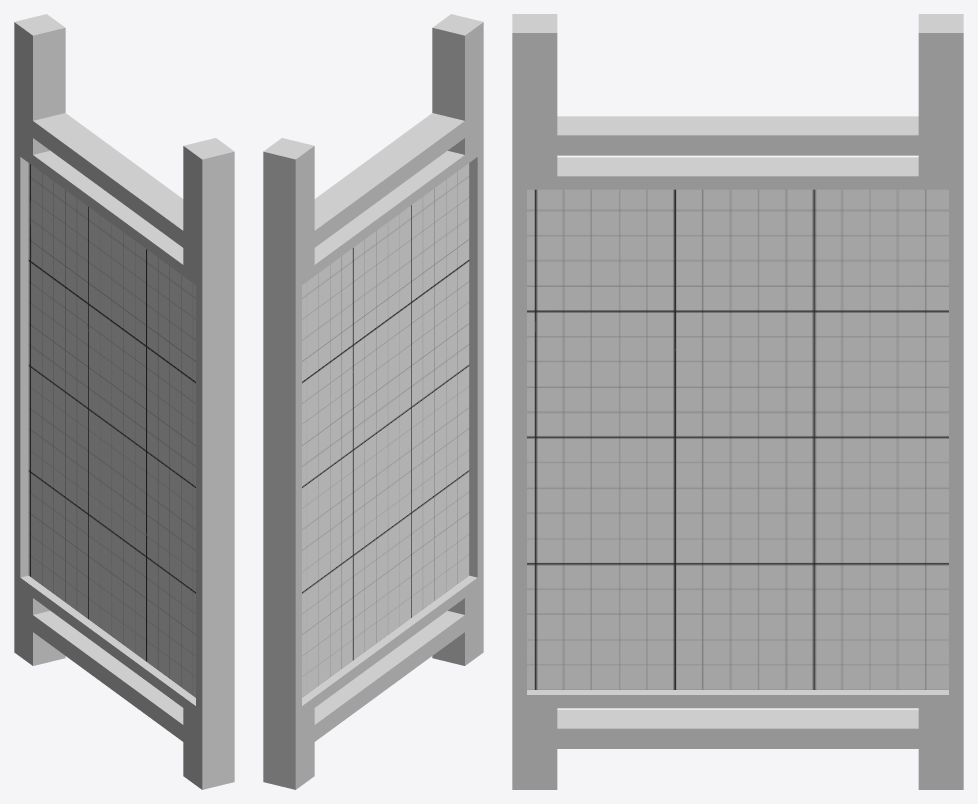
Rendered from Tile_Barrier_2x4.fbx.
The picture shows the model from 3 angles, left to right: view 1: azimuth 30°, elevation 25°; view 2: azimuth 150°, elevation 25°; view 3: azimuth 270°, elevation 25°; orthographic projection. The views are drawn at different scales.
Parts seen in each view (by area): view 1: Tile_Barrier_2x4; view 2: Tile_Barrier_2x4; view 3: Tile_Barrier_2x4.
Boxes of the visible parts, x1=… form: Tile_Barrier_2x4: x1=14, y1=14, x2=234, y2=789; Tile_Barrier_2x4: x1=263, y1=14, x2=483, y2=789; Tile_Barrier_2x4: x1=512, y1=14, x2=963, y2=789.
Bounding box in the file's own units: 20 × 370 × 200.
